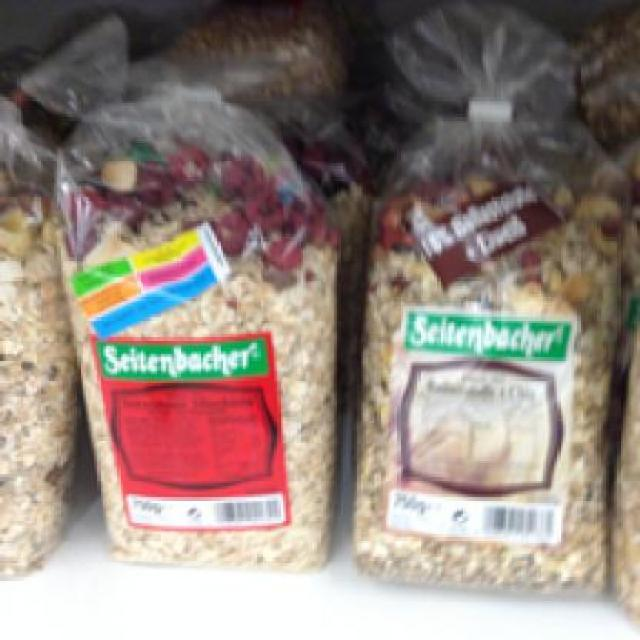Cereal: (352, 111, 638, 588), (51, 128, 338, 566)
